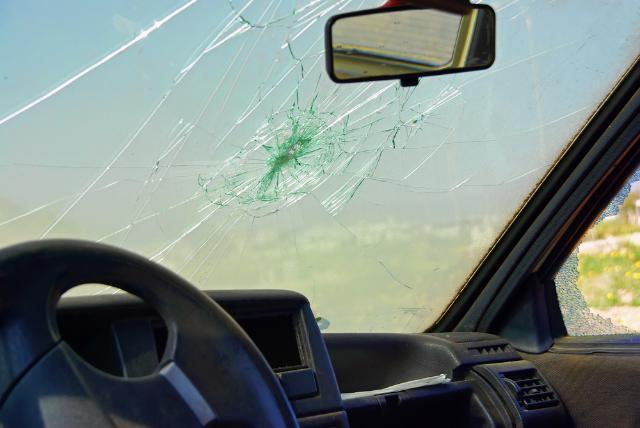glass shatter: (0, 0, 640, 333), (555, 166, 640, 336)
